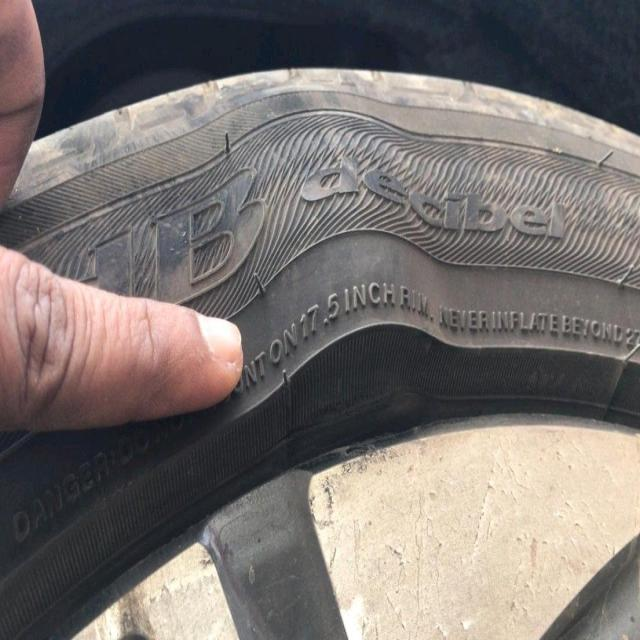Bulge: (244, 69, 442, 377)
